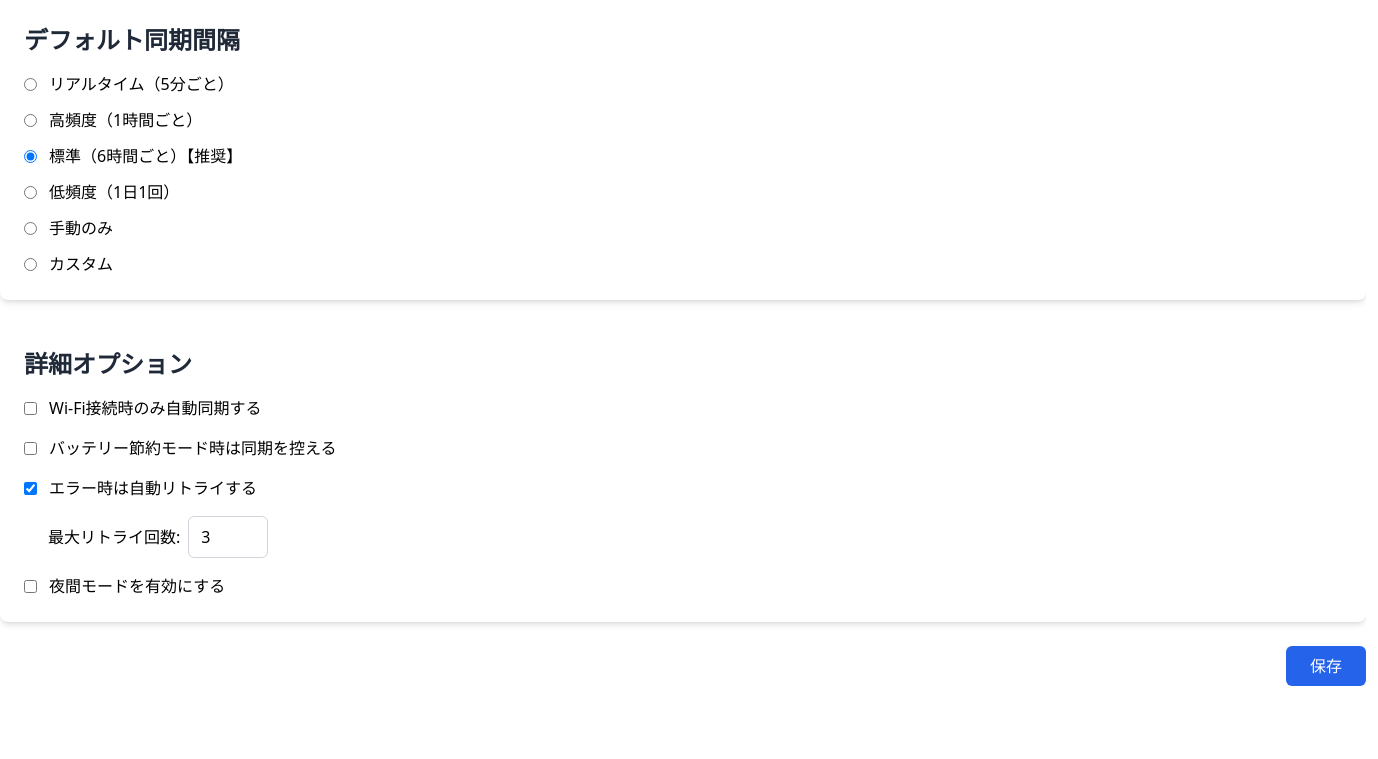
Test: GlobalSettingsTab › 夜間モードを有効化できる
Check: the heading "詳細オプション" is shown, box [24,347,192,380]
夜間モードを有効化
Click the checkbox labelled "夜間モードを有効にする".
click(30, 586)  # box [24,580,37,592]
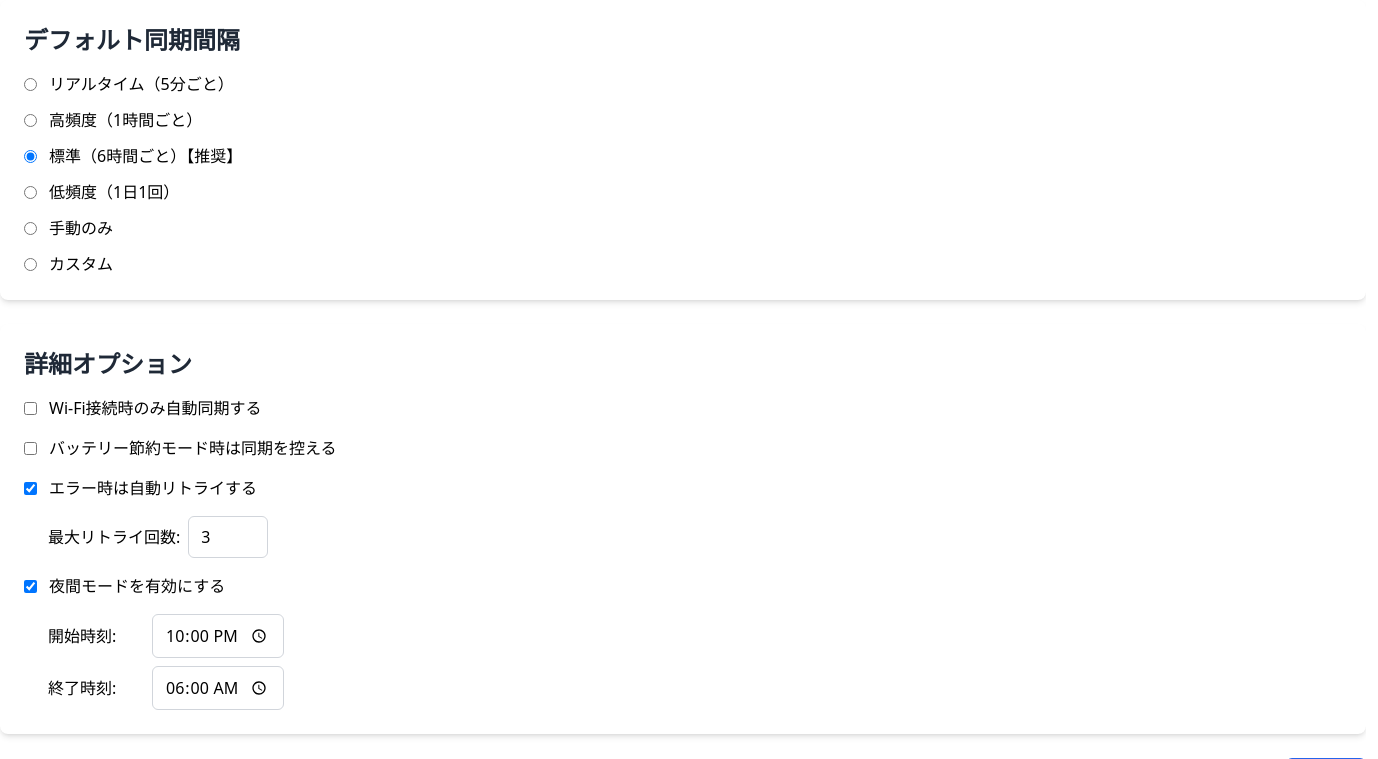
Check: the checkbox labelled "夜間モードを有効にする" is checked, box [24,580,37,592]
Check: the time field showing "22:00" next to "開始時刻:" is shown, box [152,614,284,658]
Check: the time field showing "06:00" next to "終了時刻:" is shown, box [152,666,284,710]
